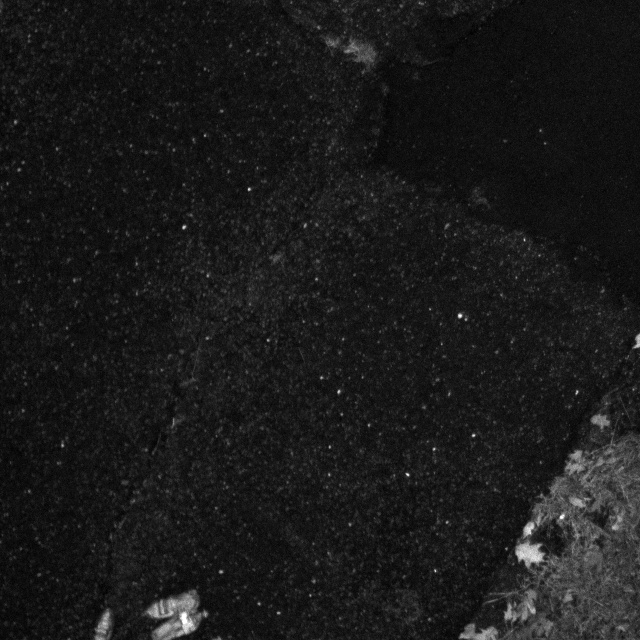bottle: (144, 584, 206, 629)
